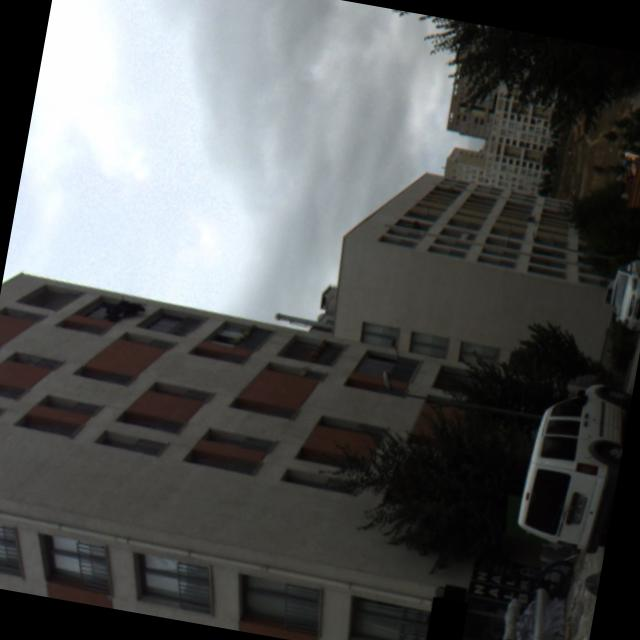SignStore: (426, 596, 468, 640)
